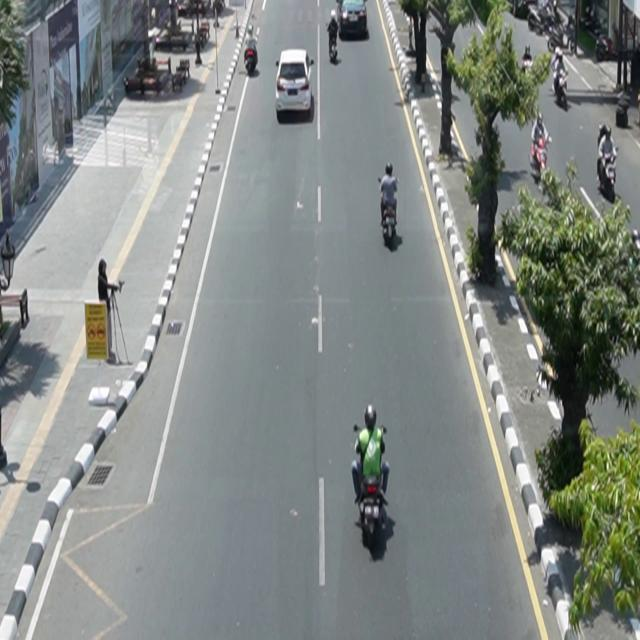car: (276, 48, 315, 116), (339, 1, 368, 40)
